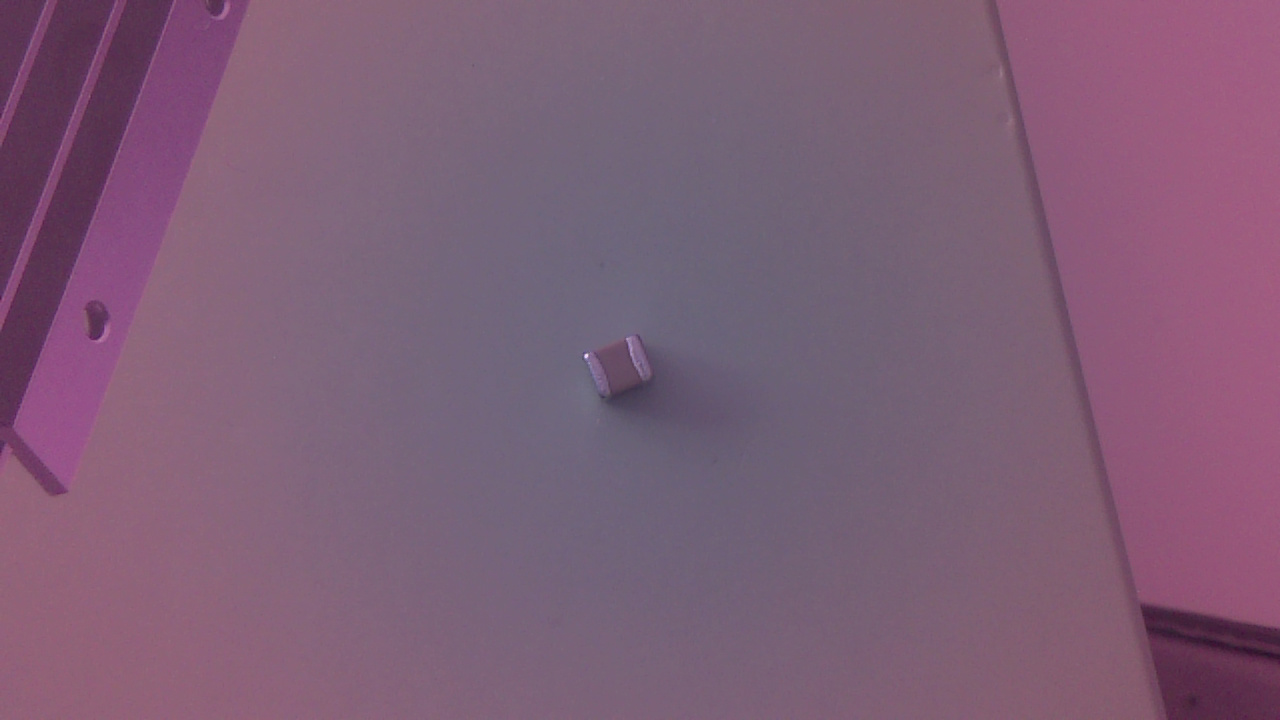Condensator: (582, 335, 669, 409)
